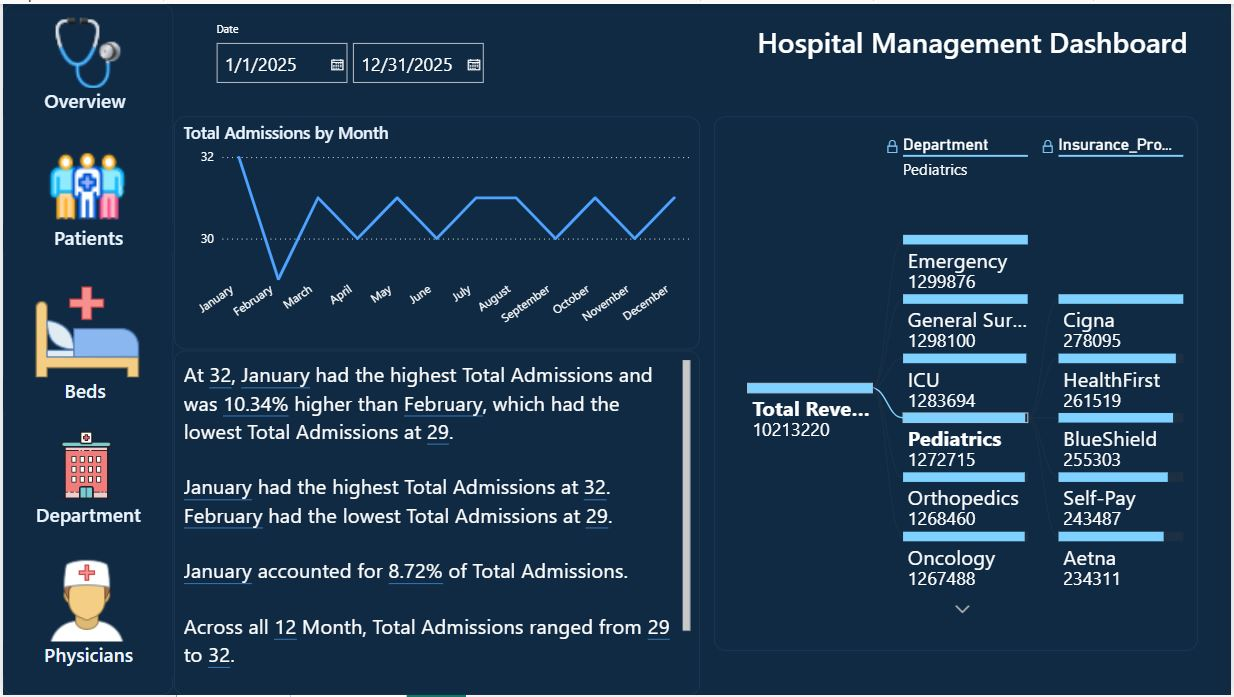

The page's visual inventory and layout, read from the dashboard file:
{"tool":"powerbi","page":{"name":"Page 2","canvas":[1280,720],"ordinal":1},"visuals":[{"type":"shape","box":[0,0,177.6,720],"z":0},{"type":"textbox","title":"Hospital Management Dashboard","box":[740.8,0,538.6,91.9],"z":1000},{"type":"slicer","fields":{"Values":["Admissions.Admission_Date"]},"box":[209.6,14.7,307,79],"z":2000},{"type":"image","box":[12.9,11,148.9,80.9],"z":11000},{"type":"textbox","title":"Overview","box":[0,88.2,171,29.4],"z":12000},{"type":"image","box":[11,141.5,154.4,95.6],"z":13000},{"type":"textbox","title":"Patients","box":[0,229.8,178.3,27.6],"z":14000},{"type":"image","box":[12.9,284.9,148.9,112.1],"z":15000},{"type":"textbox","title":"Beds","box":[0,389.7,171,33.1],"z":16000},{"type":"image","box":[12.9,443,148.9,86.4],"z":17000},{"type":"textbox","title":"Department","box":[5.5,518.4,165.4,31.2],"z":18000},{"type":"image","box":[9.2,577.2,156.2,97.4],"z":19000},{"type":"textbox","title":"Physicians","box":[0,663.6,178.3,34.9],"z":20000},{"type":"decompositionTreeVisual","fields":{"Analyze":["Diagnosis_Clinical.Total Revenue"],"ExplainBy":["Admissions.Department","Admissions.Insurance_Provider"]},"box":[740.8,117.6,503.7,557],"z":20001},{"type":"lineChart","fields":{"Category":["Admissions.Admission_Date.Variation.Date Hierarchy.Month"],"Y":["Admissions.Total Admissions"]},"box":[178.3,117.6,547.8,242.6],"z":20002},{"type":"textbox","box":[178,361,548,359],"z":20003}]}

Visuals, with their boxes in screenshot pixels (x1, y1, x2, y2), scaled from the page's 1280x720 canvas onto the 1234x697 screenshot:
shape: pyautogui.locateOnScreen(0, 0, 171, 696)
"Hospital Management Dashboard" textbox: pyautogui.locateOnScreen(714, 0, 1233, 89)
slicer - Admissions.Admission_Date: pyautogui.locateOnScreen(202, 14, 498, 91)
image: pyautogui.locateOnScreen(12, 11, 156, 89)
"Overview" textbox: pyautogui.locateOnScreen(0, 85, 165, 114)
image: pyautogui.locateOnScreen(11, 137, 159, 230)
"Patients" textbox: pyautogui.locateOnScreen(0, 222, 172, 249)
image: pyautogui.locateOnScreen(12, 276, 156, 384)
"Beds" textbox: pyautogui.locateOnScreen(0, 377, 165, 409)
image: pyautogui.locateOnScreen(12, 429, 156, 512)
"Department" textbox: pyautogui.locateOnScreen(5, 502, 165, 532)
image: pyautogui.locateOnScreen(9, 559, 159, 653)
"Physicians" textbox: pyautogui.locateOnScreen(0, 642, 172, 676)
decompositionTreeVisual - Diagnosis_Clinical.Total Revenue x Admissions.Department: pyautogui.locateOnScreen(714, 114, 1200, 653)
lineChart - Admissions.Admission_Date.Variation.Date Hierarchy.Month x Admissions.Total Admissions: pyautogui.locateOnScreen(172, 114, 700, 349)
textbox: pyautogui.locateOnScreen(172, 349, 700, 696)
